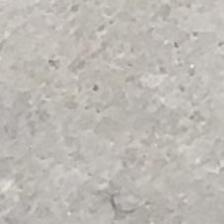Non_Crack: (29, 18, 207, 171)
